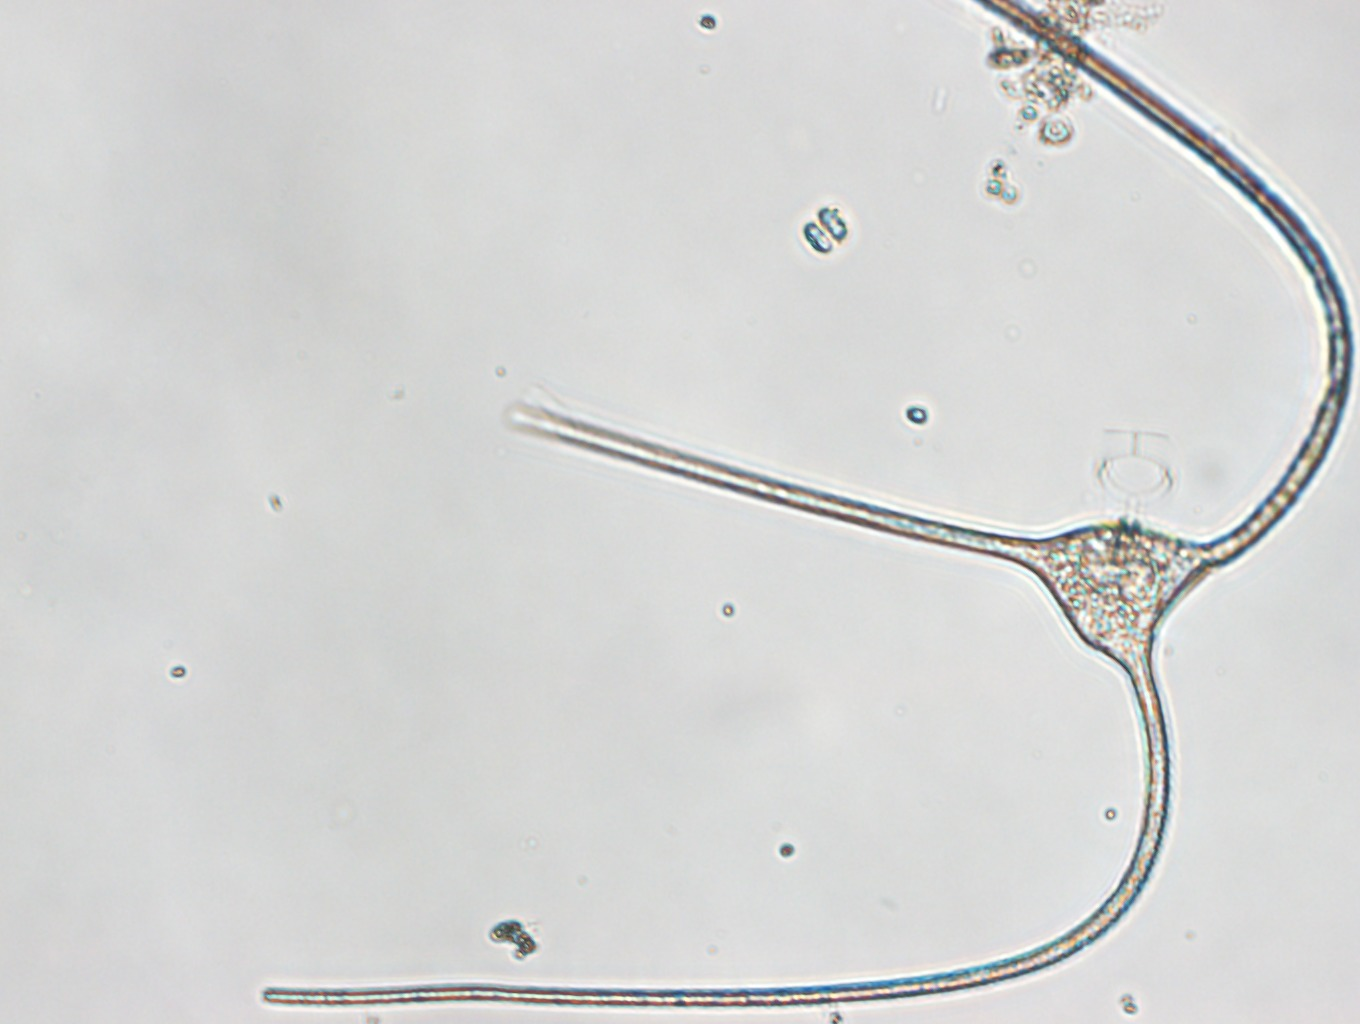ceratium trichoceros: (258, 1, 1355, 1006)
